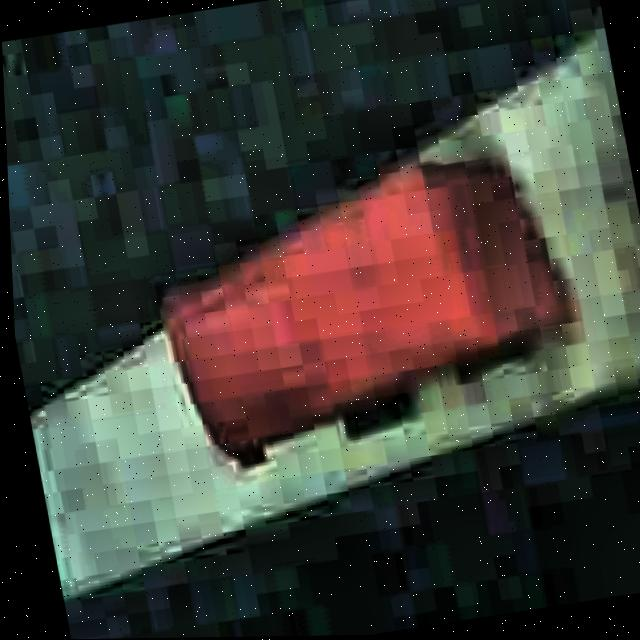bus: (138, 138, 602, 477)
